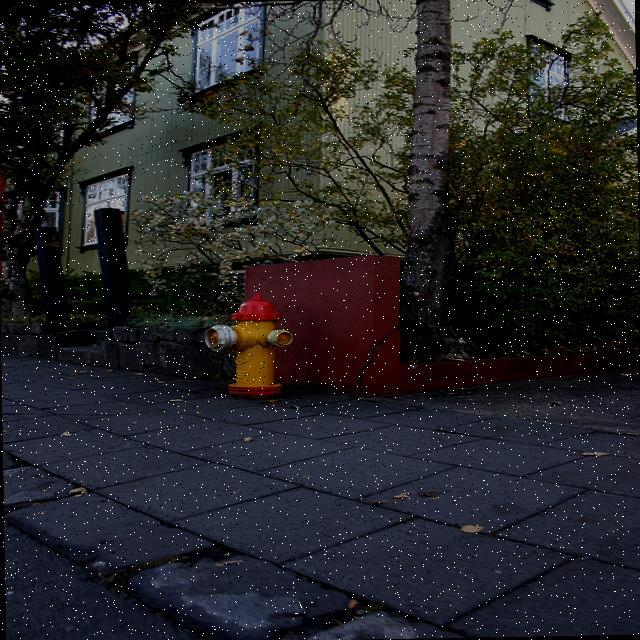fire_hydrant: (202, 291, 294, 398)
